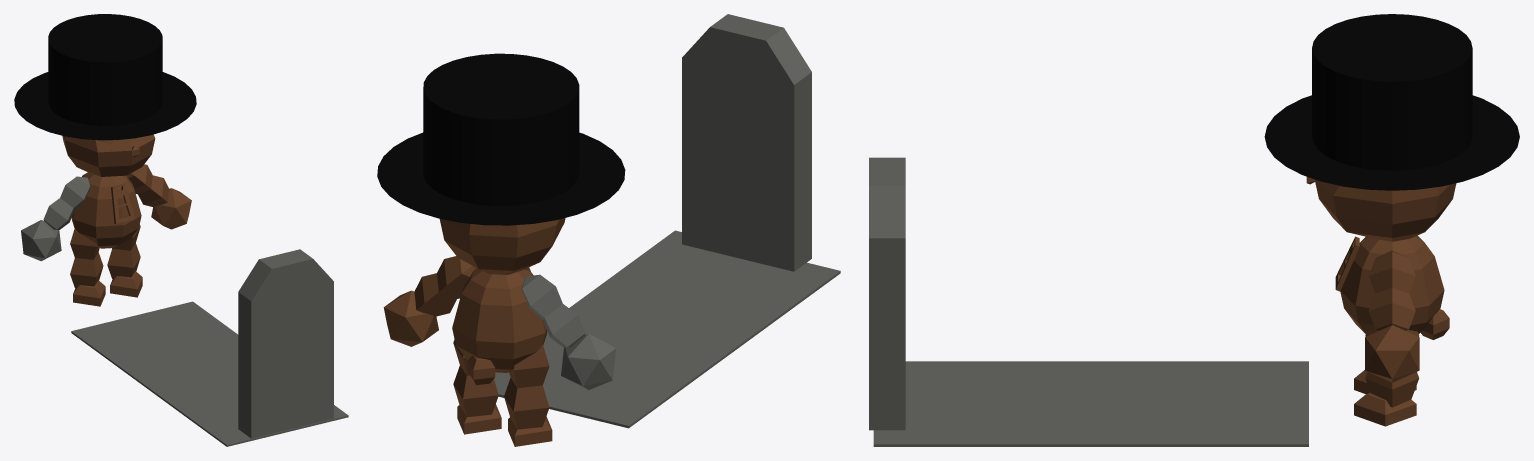
3 views of the same model, side by side, from view 1: azimuth 30°, elevation 25°; view 2: azimuth 150°, elevation 25°; view 3: azimuth 270°, elevation 25° (orthographic). The views are drawn at different scales.
Parts seen in each view (by area): view 1: F_FinishGame; view 2: F_FinishGame; view 3: F_FinishGame.
Boxes of the visible parts, left/top/right/bottom form: F_FinishGame: left=14, top=14, right=348, bottom=446; F_FinishGame: left=377, top=14, right=840, bottom=446; F_FinishGame: left=869, top=14, right=1519, bottom=446.
Bounding box in the file's own units: 247 × 367 × 602.
